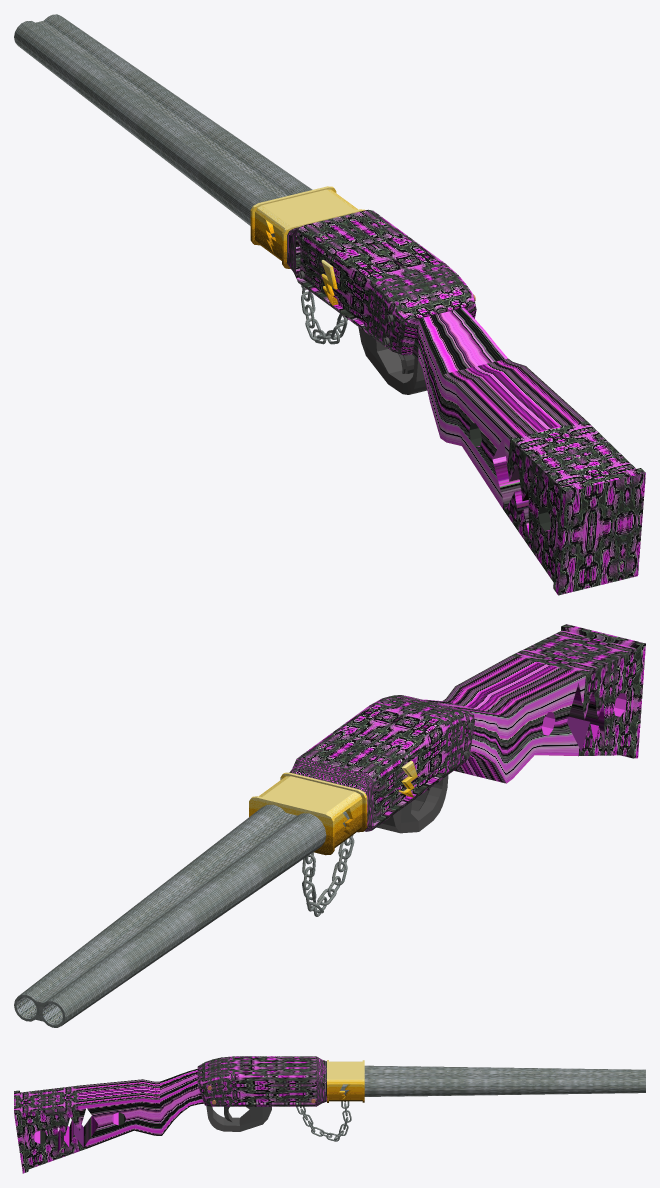
The model's file is Shotgun (1).glb.
The picture shows the model from 3 angles, top to bottom: view 1: azimuth 30°, elevation 25°; view 2: azimuth 150°, elevation 25°; view 3: azimuth 270°, elevation 25°; orthographic projection. The views are drawn at different scales.
Parts seen in each view (by area): view 1: Cubo, Cylinder.001, Cubo.006, Cubo.010, segurin; view 2: Cubo, Cylinder.001, Cubo.006, Cubo.010, segurin; view 3: Cubo, Cylinder.001, Cubo.006, Cubo.010, segurin.
Part boxes in pixels (bbox=[...]): Cubo: bbox=[412, 308, 645, 595]; Cylinder.001: bbox=[14, 14, 312, 237]; Cubo.006: bbox=[287, 209, 476, 355]; Cubo.010: bbox=[250, 186, 365, 268]; segurin: bbox=[358, 327, 427, 394]; Cubo: bbox=[423, 624, 645, 783]; Cylinder.001: bbox=[14, 804, 349, 1027]; Cubo.006: bbox=[289, 695, 474, 831]; Cubo.010: bbox=[249, 772, 367, 855]; segurin: bbox=[376, 775, 448, 833]; Cubo: bbox=[14, 1069, 203, 1173]; Cylinder.001: bbox=[340, 1065, 645, 1096]; Cubo.006: bbox=[197, 1056, 326, 1106]; Cubo.010: bbox=[327, 1060, 364, 1102]; segurin: bbox=[206, 1106, 271, 1131].
Bounding box in the file's own units: 0.1741 × 0.3425 × 2.
Materials: 6 (5 with a texture image).
